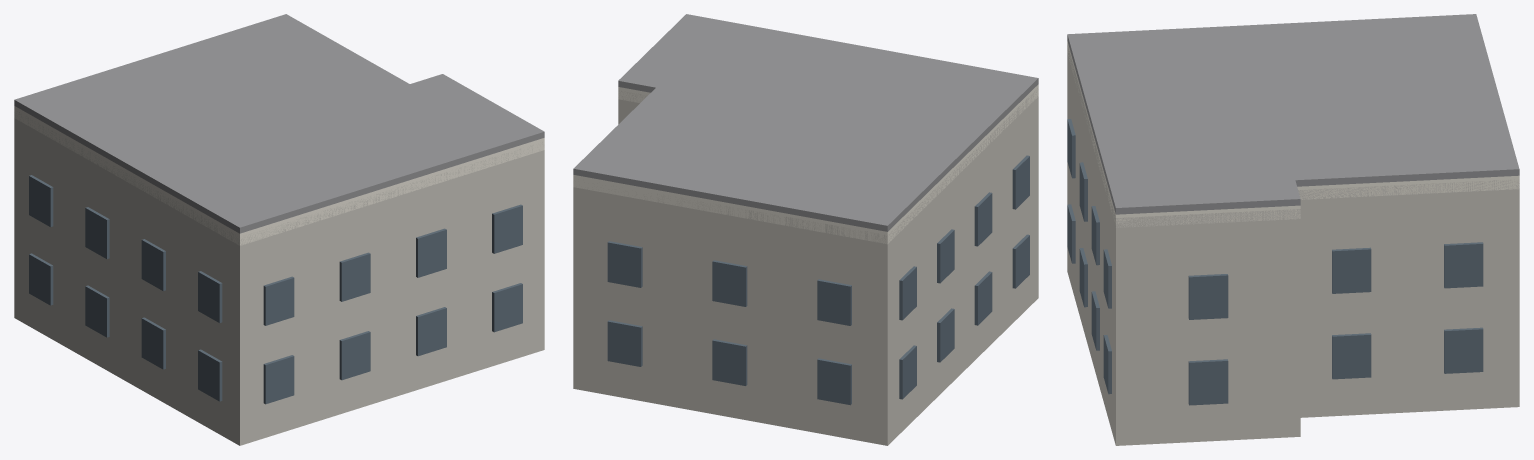
File: s37_gis_248103_820706.glb
The picture shows the model from 3 angles, left to right: view 1: azimuth 30°, elevation 25°; view 2: azimuth 150°, elevation 25°; view 3: azimuth 270°, elevation 25°; orthographic projection. The views are drawn at different scales.
Parts seen in each view (by area): view 1: mass, roofcap, cornice, win_1_0_1, win_1_1_0, win_1_1_1, win_1_0_0, win_1_0_3, win_1_1_2, win_1_1_3, win_1_0_2, win_0_0_1 (+7 smaller); view 2: mass, roofcap, cornice, win_5_0_0, win_5_0_1, win_5_1_0, win_5_1_1, win_5_0_2, win_5_1_2, win_0_1_2, win_0_0_2, win_0_0_0 (+5 smaller); view 3: mass, roofcap, cornice, win_2_0_0, win_2_1_0, win_4_1_1, win_4_0_0, win_4_0_1, win_4_1_0, win_1_0_0, win_1_1_0, win_1_1_1 (+5 smaller).
Part boxes in pixels (<box>): mass: <box>14,111,544,445</box>; roofcap: <box>14,14,544,233</box>; cornice: <box>14,106,544,245</box>; win_1_0_1: <box>339,331,370,380</box>; win_1_1_0: <box>263,276,294,325</box>; win_1_1_1: <box>339,252,370,301</box>; win_1_0_0: <box>263,355,294,404</box>; win_1_0_3: <box>492,283,522,332</box>; win_1_1_2: <box>416,228,446,277</box>; win_1_1_3: <box>492,204,522,253</box>; win_1_0_2: <box>416,307,446,356</box>; win_0_0_1: <box>85,285,109,337</box>; mass: <box>573,88,1038,445</box>; roofcap: <box>573,14,1038,231</box>; cornice: <box>573,84,1038,244</box>; win_5_0_0: <box>607,320,642,366</box>; win_5_0_1: <box>712,339,747,385</box>; win_5_1_0: <box>607,241,642,287</box>; win_5_1_1: <box>712,260,747,306</box>; win_5_0_2: <box>817,358,851,405</box>; win_5_1_2: <box>817,279,851,325</box>; win_0_1_2: <box>974,192,992,246</box>; win_0_0_2: <box>974,271,992,325</box>; win_0_0_0: <box>899,345,916,399</box>; mass: <box>1067,45,1519,445</box>; roofcap: <box>1067,14,1519,214</box>; cornice: <box>1067,41,1519,227</box>; win_2_0_0: <box>1188,359,1228,405</box>; win_2_1_0: <box>1188,274,1228,319</box>; win_4_1_1: <box>1444,242,1483,288</box>; win_4_0_0: <box>1332,333,1371,379</box>; win_4_0_1: <box>1444,327,1483,373</box>; win_4_1_0: <box>1332,247,1371,293</box>; win_1_0_0: <box>1067,204,1075,263</box>; win_1_1_0: <box>1067,119,1075,178</box>; win_1_1_1: <box>1079,162,1087,221</box>.
Size of the model in its own units: 14.62 by 8.35 by 14.38.
